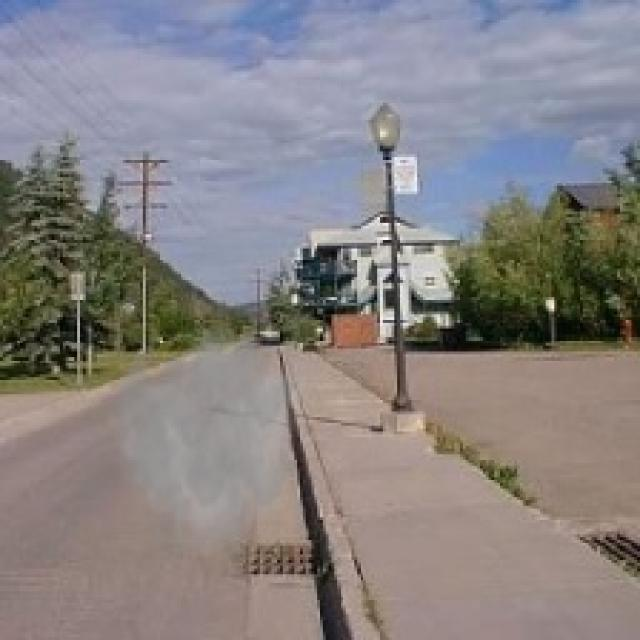smoke: (100, 317, 306, 566)
